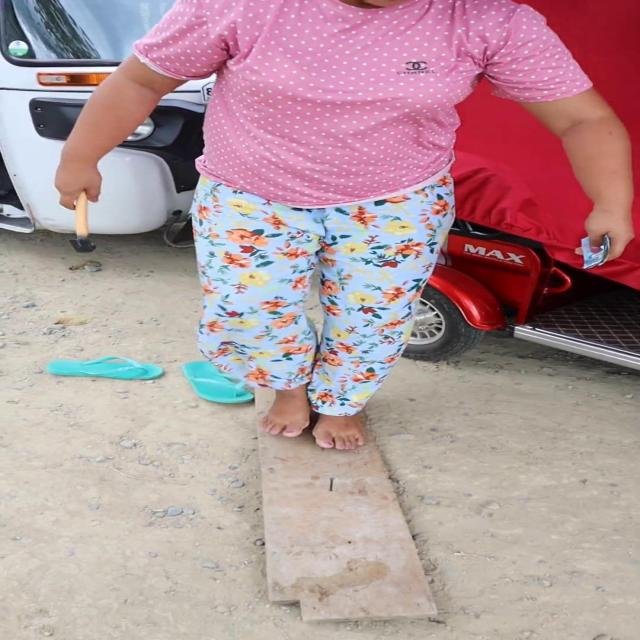hammer: (71, 184, 98, 253)
